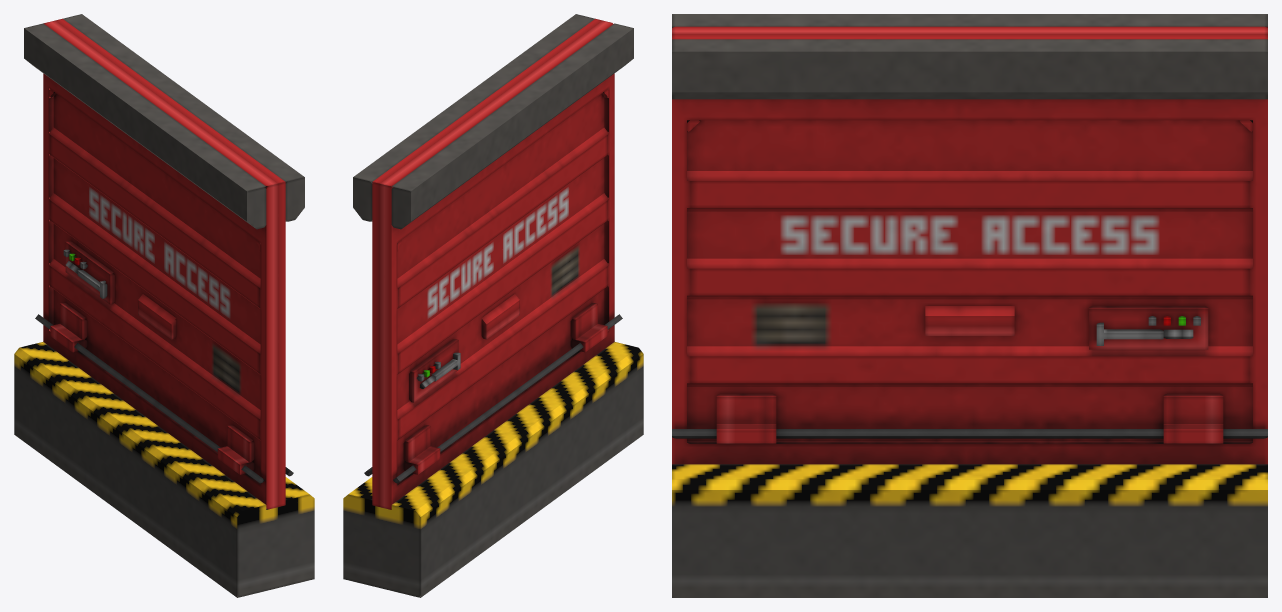
Rendered from secure_door.obj.
The picture shows the model from 3 angles, left to right: view 1: azimuth 30°, elevation 25°; view 2: azimuth 150°, elevation 25°; view 3: azimuth 270°, elevation 25°; orthographic projection. The views are drawn at different scales.
Parts seen in each view (by area): view 1: Door, Frame; view 2: Door, Frame; view 3: Door, Frame.
Boxes of the visible parts, x1,y1,x2,y2 form: Door: [35, 18, 293, 509]; Frame: [14, 14, 314, 597]; Door: [364, 18, 622, 509]; Frame: [343, 14, 643, 597]; Door: [672, 26, 1267, 464]; Frame: [672, 14, 1267, 597].
Size of the model in its own units: 1 by 5 by 5.
1 material, 1 textured.
